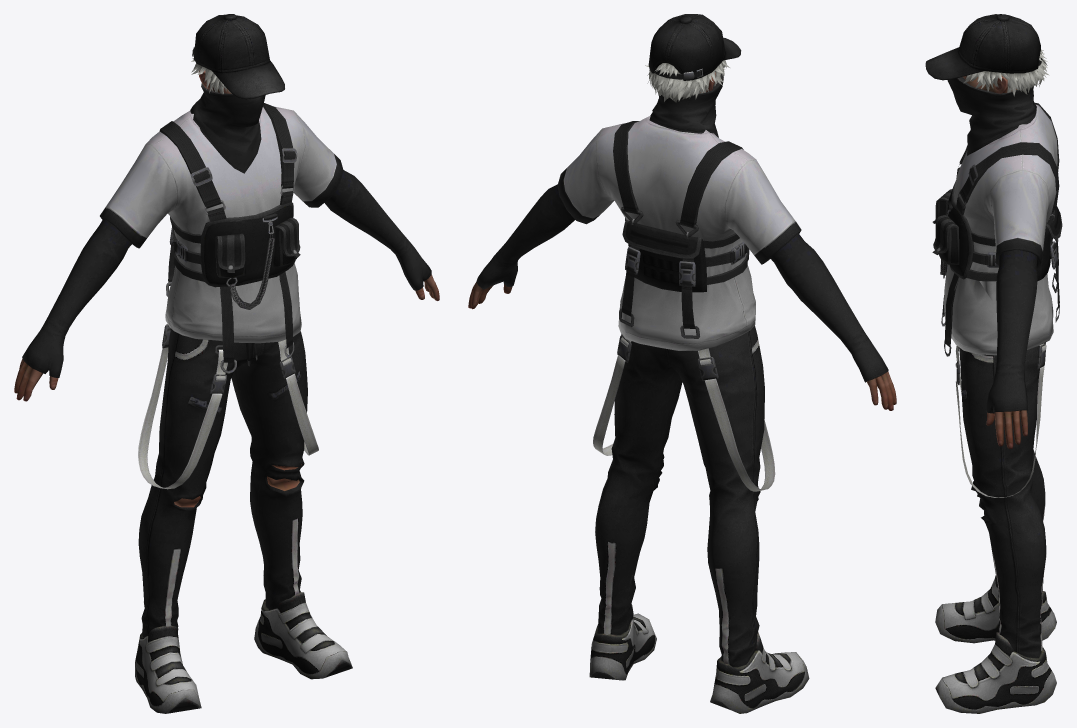
The model's file is sport.fbx.
3 views of the same model, side by side, from view 1: azimuth 30°, elevation 25°; view 2: azimuth 150°, elevation 25°; view 3: azimuth 270°, elevation 25° (orthographic).
Visible parts, largest first — view 1: Male_Lobby_Top_Cos_Sportsuit, Male_Lobby_Bottom_Cos_Sportsuit, Male_Lobby_Shoe_Cos_Sportsuit, Male_Lobby_Hair_Cos_Sportsuit, Male_Lobby_Accessory_Cos_Sportsuit; view 2: Male_Lobby_Top_Cos_Sportsuit, Male_Lobby_Bottom_Cos_Sportsuit, Male_Lobby_Shoe_Cos_Sportsuit, Male_Lobby_Hair_Cos_Sportsuit, Male_Lobby_Accessory_Cos_Sportsuit; view 3: Male_Lobby_Top_Cos_Sportsuit, Male_Lobby_Bottom_Cos_Sportsuit, Male_Lobby_Shoe_Cos_Sportsuit, Male_Lobby_Hair_Cos_Sportsuit, Male_Lobby_Accessory_Cos_Sportsuit, male_lobby_head_SC_Samurai.
Boxes of the visible parts, x1,y1,x2,y2 form: Male_Lobby_Top_Cos_Sportsuit: (14, 103, 439, 401); Male_Lobby_Bottom_Cos_Sportsuit: (138, 324, 318, 637); Male_Lobby_Shoe_Cos_Sportsuit: (135, 592, 352, 713); Male_Lobby_Hair_Cos_Sportsuit: (191, 14, 284, 99); Male_Lobby_Accessory_Cos_Sportsuit: (190, 83, 265, 173); Male_Lobby_Top_Cos_Sportsuit: (468, 115, 896, 410); Male_Lobby_Bottom_Cos_Sportsuit: (593, 325, 775, 667); Male_Lobby_Shoe_Cos_Sportsuit: (589, 604, 809, 713); Male_Lobby_Hair_Cos_Sportsuit: (645, 14, 741, 102); Male_Lobby_Accessory_Cos_Sportsuit: (649, 74, 723, 137); Male_Lobby_Top_Cos_Sportsuit: (932, 103, 1062, 448); Male_Lobby_Bottom_Cos_Sportsuit: (955, 342, 1046, 658); Male_Lobby_Shoe_Cos_Sportsuit: (935, 575, 1056, 713); Male_Lobby_Hair_Cos_Sportsuit: (925, 14, 1049, 96); Male_Lobby_Accessory_Cos_Sportsuit: (947, 77, 1036, 155); male_lobby_head_SC_Samurai: (962, 75, 1016, 93).
Bounding box in the file's own units: 653 × 985 × 187.
Materials: 8 (8 with a texture image).
